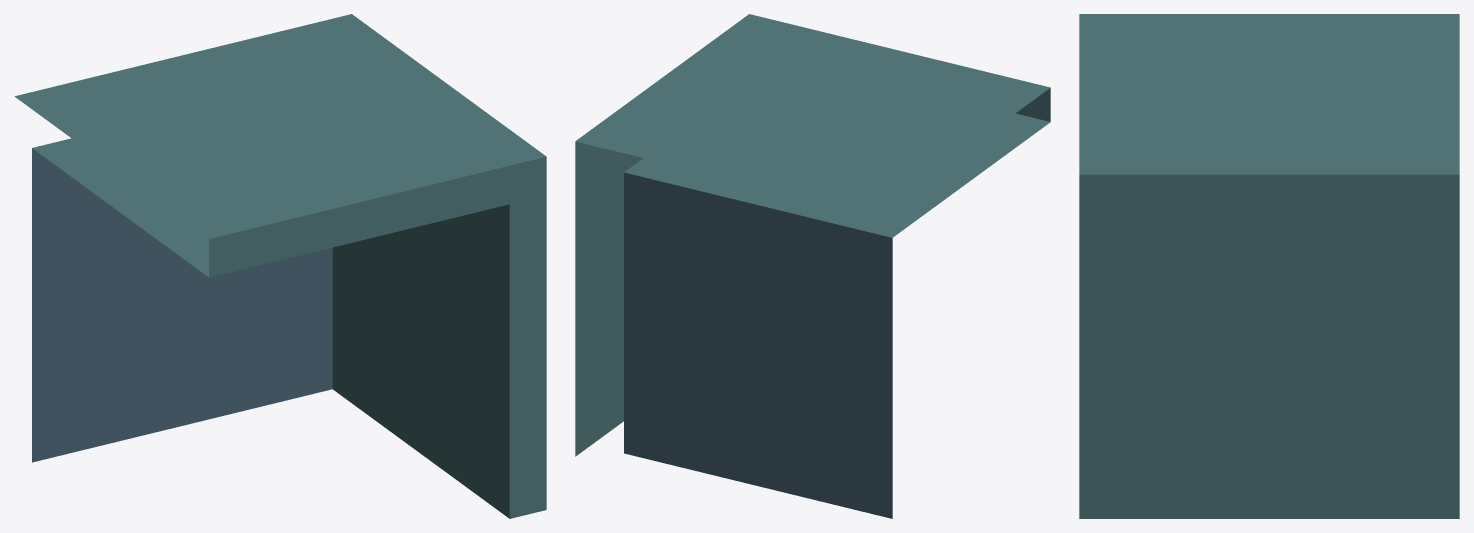
Rendered from MOD_IcebergCubeTop.fbx.
3 views of the same model, side by side, from view 1: azimuth 30°, elevation 25°; view 2: azimuth 150°, elevation 25°; view 3: azimuth 270°, elevation 25° (orthographic). The views are drawn at different scales.
Parts seen in each view (by area): view 1: top; view 2: top; view 3: top.
Part boxes in pixels (x1,y1,x2,y2): top: (14,14,546,518); top: (575,14,1050,518); top: (1079,14,1459,518).
Size of the model in its own units: 200 by 200 by 200.
